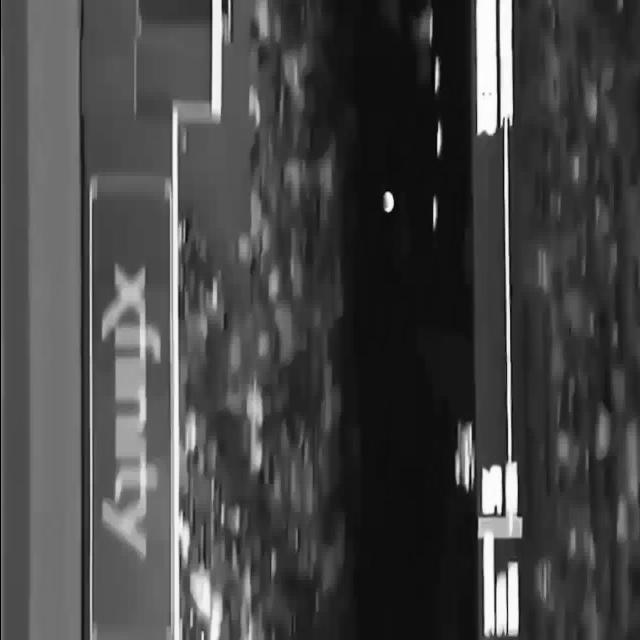baseball: (382, 190, 394, 212)
